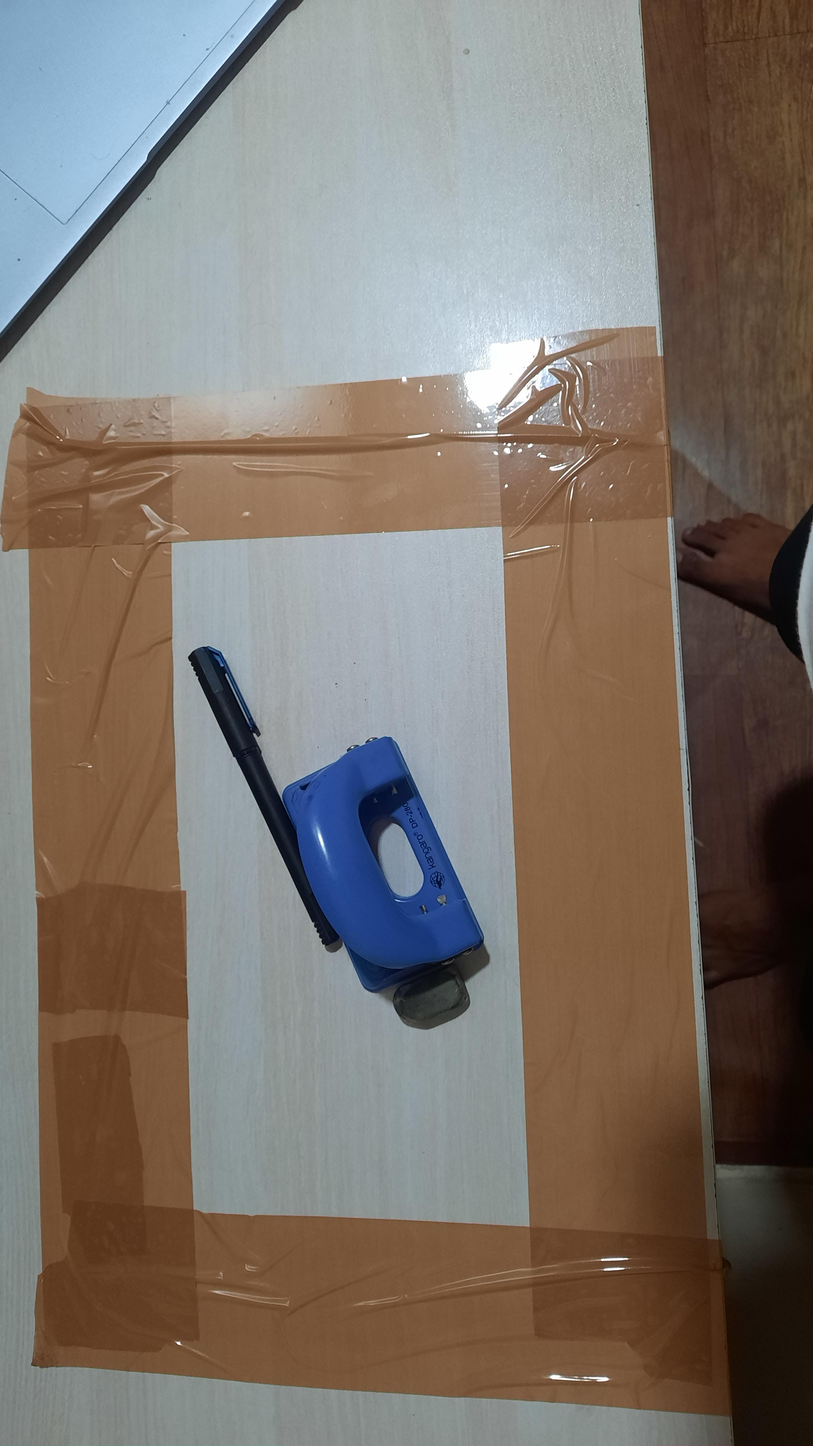Eraser: (392, 964, 471, 1030)
Pen: (188, 645, 343, 953)
Punch: (281, 735, 490, 994)
